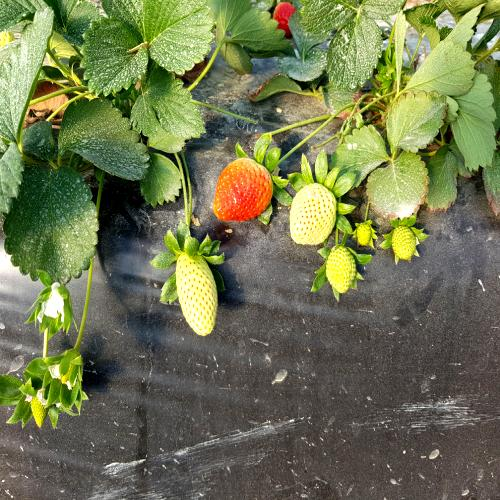unripe: (161, 253, 240, 338), (284, 174, 342, 258)
